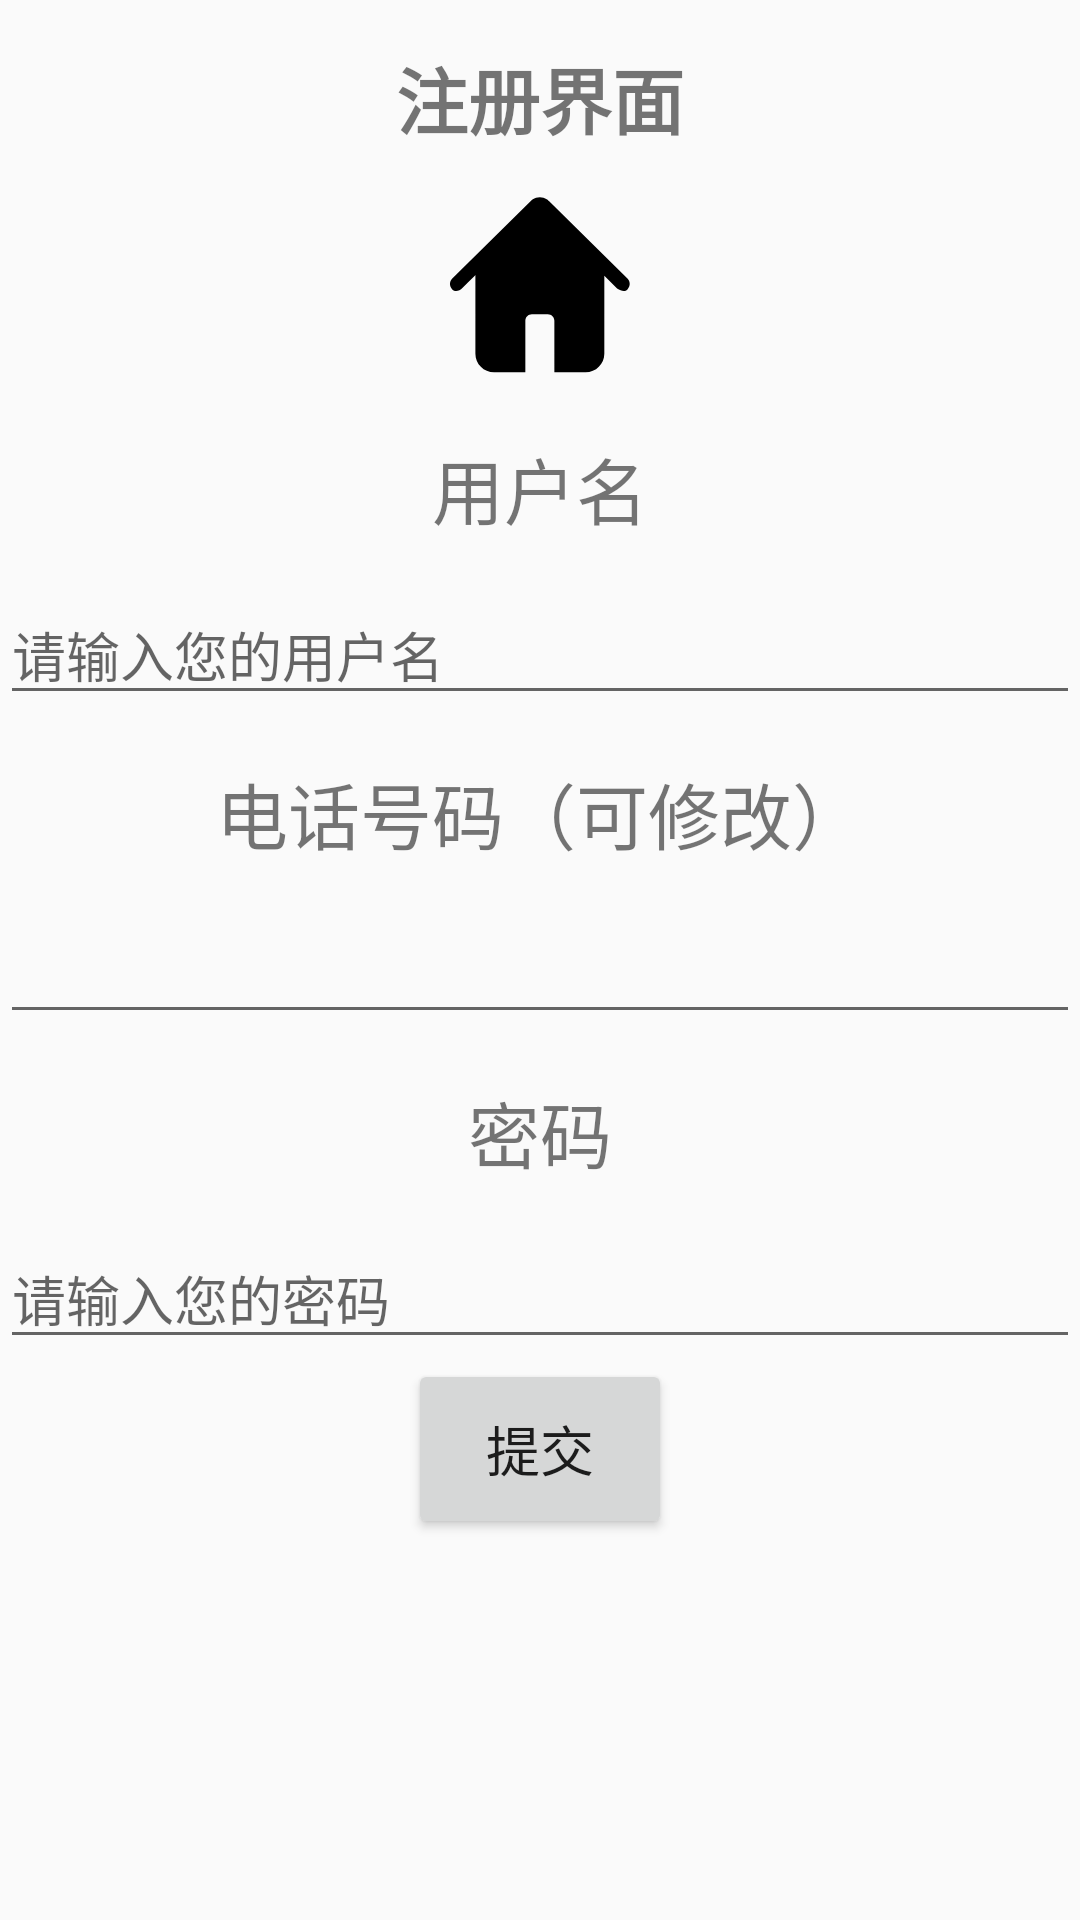

Icons on this 1080px×1920px Android screen, each with its box as (x1, y1, x2, y2):
home: (450, 197, 630, 373)
